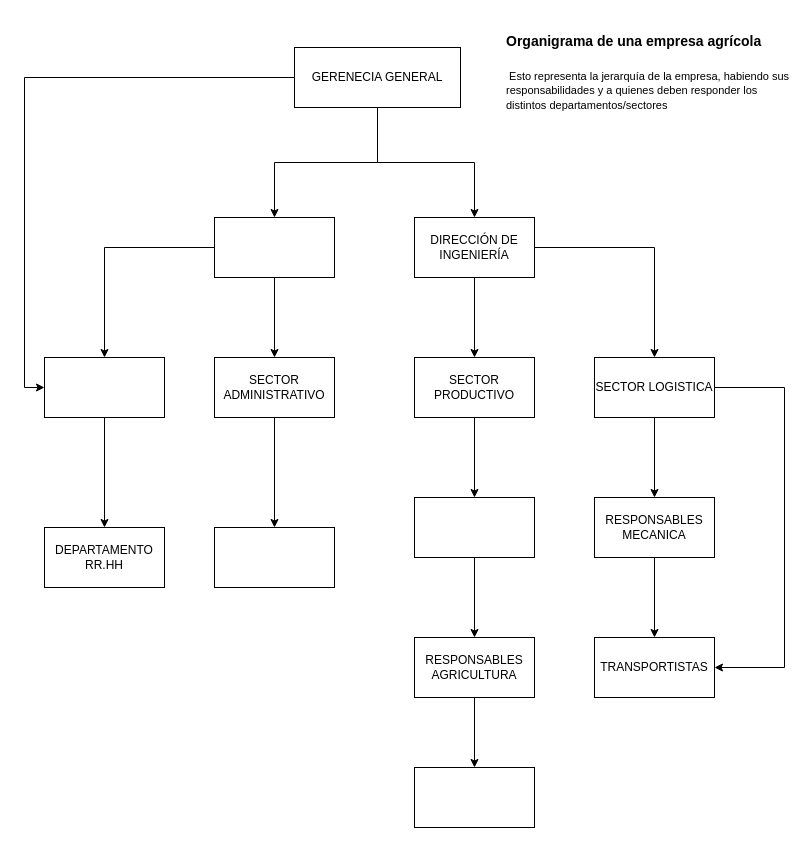
Some shapes in this 812 by 845 pixel diagram are drawn without their labels. Each missing label, with the centre of its shape:
"ASISTENCIA DE GERENCIA" belongs at (274,247).
"DEPARTAMENTO COMERCIAL" belongs at (274,557).
"OPERARIOS" belongs at (474,797).
"RESPONSABLES GANADERIA" belongs at (474,527).
"SECTOR RR.HH" belongs at (104,387).
